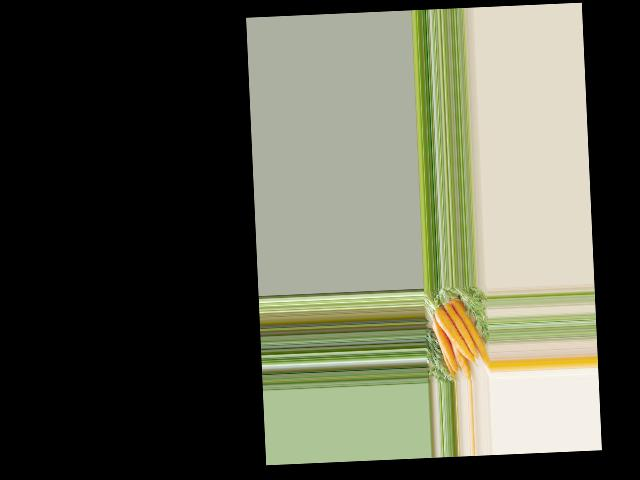carrot: (449, 292, 491, 372)
